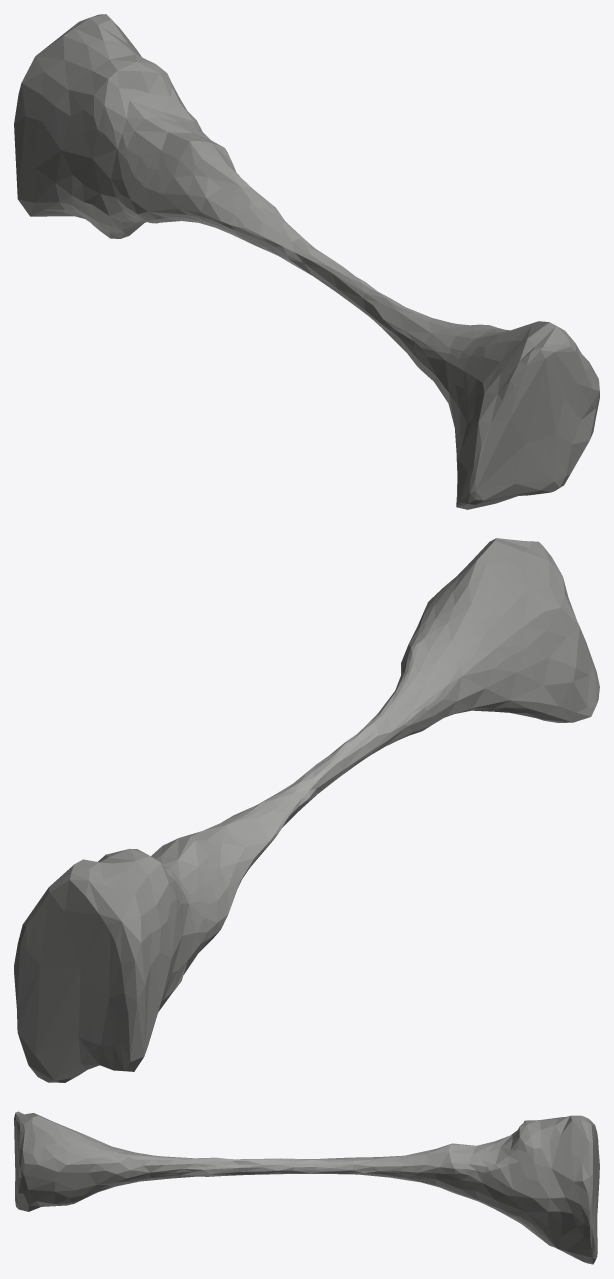
File: Cavern_Pillar_Sideways-01.fbx
3 renders of one model, top to bottom at view 1: azimuth 30°, elevation 25°; view 2: azimuth 150°, elevation 25°; view 3: azimuth 270°, elevation 25°, orthographic. The views are drawn at different scales.
Visible parts, largest first — view 1: Cavern_Pillar_Sideways-01; view 2: Cavern_Pillar_Sideways-01; view 3: Cavern_Pillar_Sideways-01.
Boxes of the visible parts, x1,y1,x2,y2 form: Cavern_Pillar_Sideways-01: (14, 14, 599, 509); Cavern_Pillar_Sideways-01: (14, 538, 599, 1082); Cavern_Pillar_Sideways-01: (14, 1111, 599, 1264).
Bounding box in the file's own units: 533 × 806 × 2975.
1 material, 1 textured.
